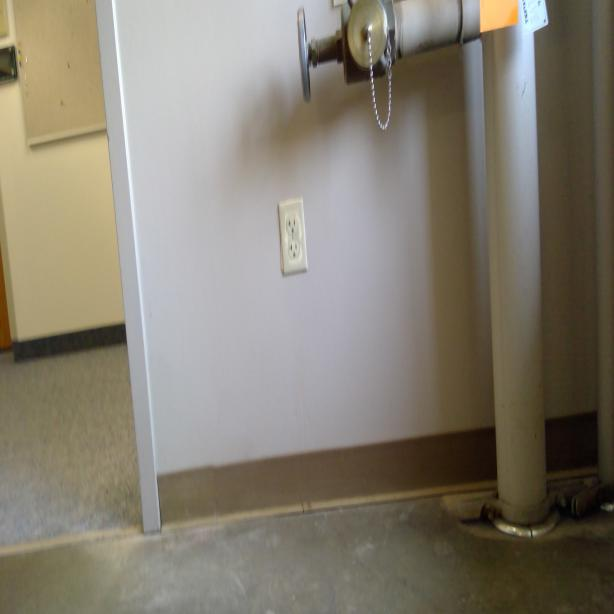typeb: (285, 212, 300, 233), (287, 243, 301, 264)
